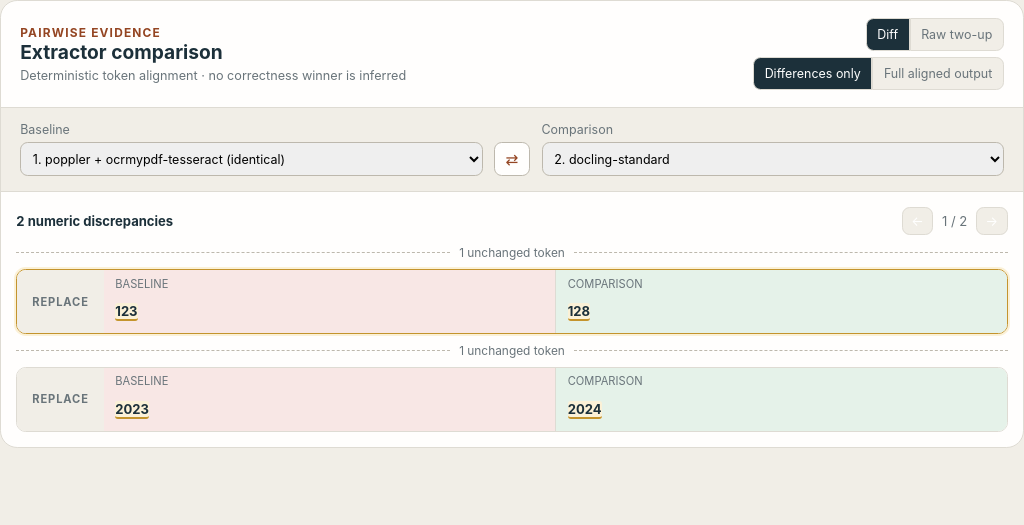
Test case: comparison workspace › switches diff density, navigates numbers, and keeps the sides distinct
Expected: the text "2 numeric discrepancies" is shown, [16, 213, 173, 229]
Expected: the text "1 / 2" is shown, [942, 213, 967, 229]
Click the button named "Next numeric discrepancy". click: (992,221)
box: [976, 207, 1008, 235]
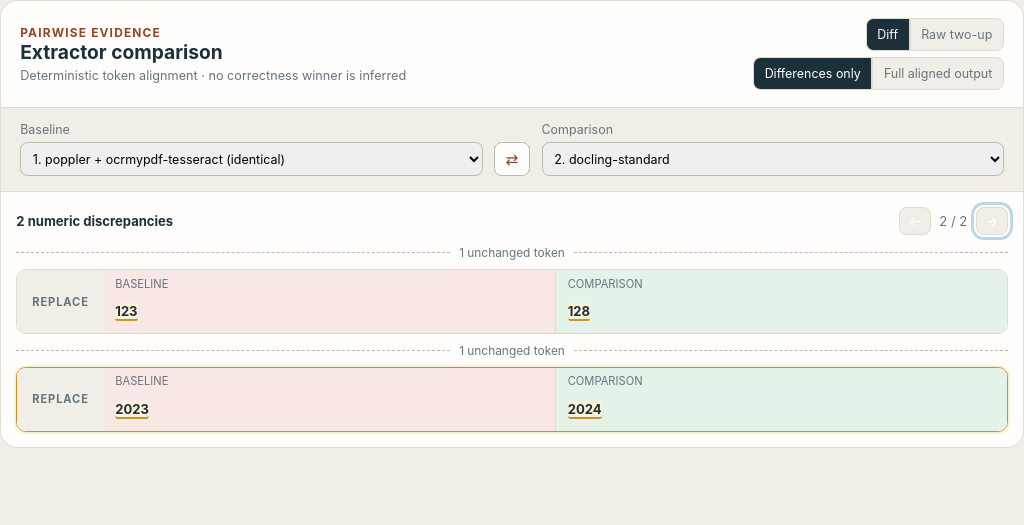
Expected: the text "equal" is not shown
Result: the text "2 / 2" is shown at [939, 213, 967, 229]
Click the button "Full aligned output". click: (938,73)
box: [872, 57, 1004, 90]
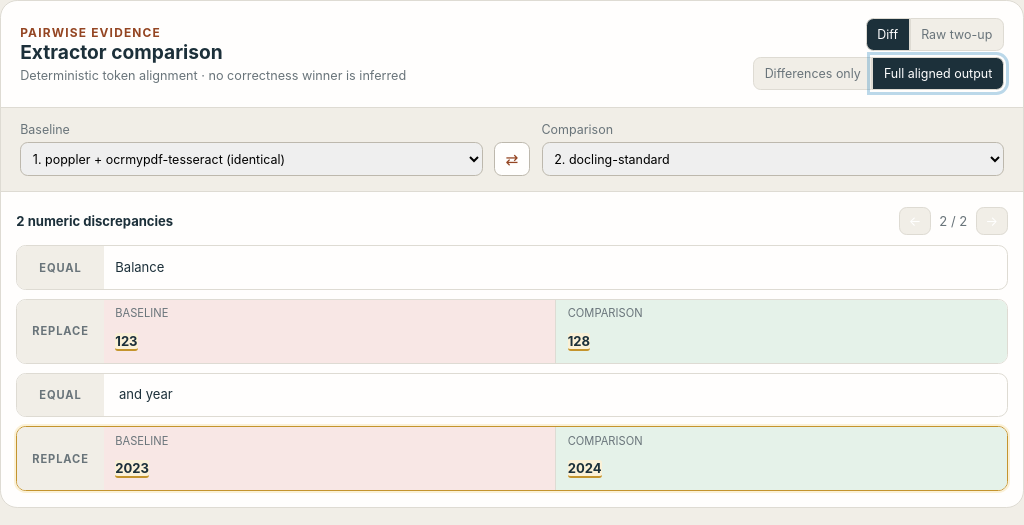
Result: the text "equal" is shown 2 times at [17, 246, 104, 289]; [17, 374, 104, 416]
Click the button named "Swap comparison direction". click: (512,159)
box: [494, 142, 530, 176]
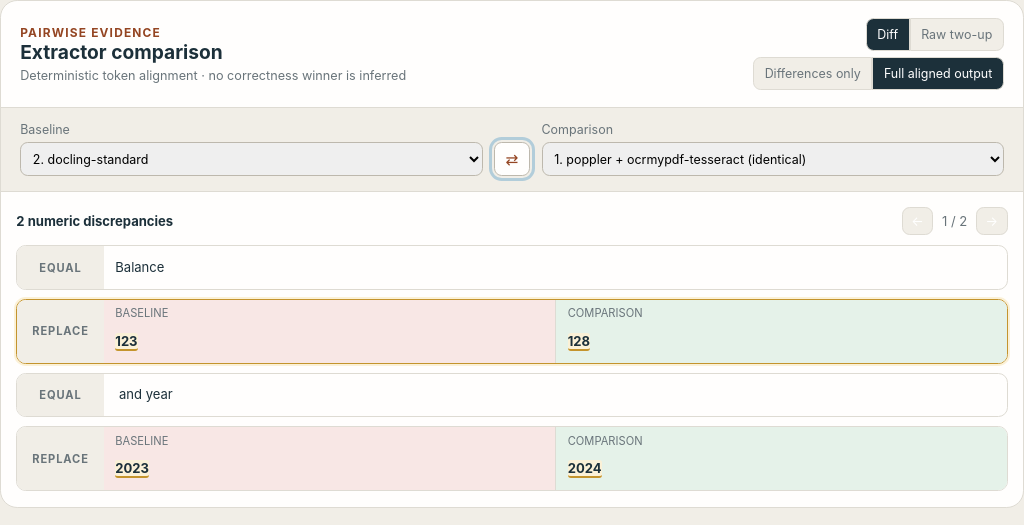
Result: the dropdown named "Baseline output" shows "2. docling-standard" at [20, 142, 482, 176]
Result: the dropdown named "Comparison output" shows "1. poppler + ocrmypdf-tesseract (identical)" at [542, 142, 1004, 176]
